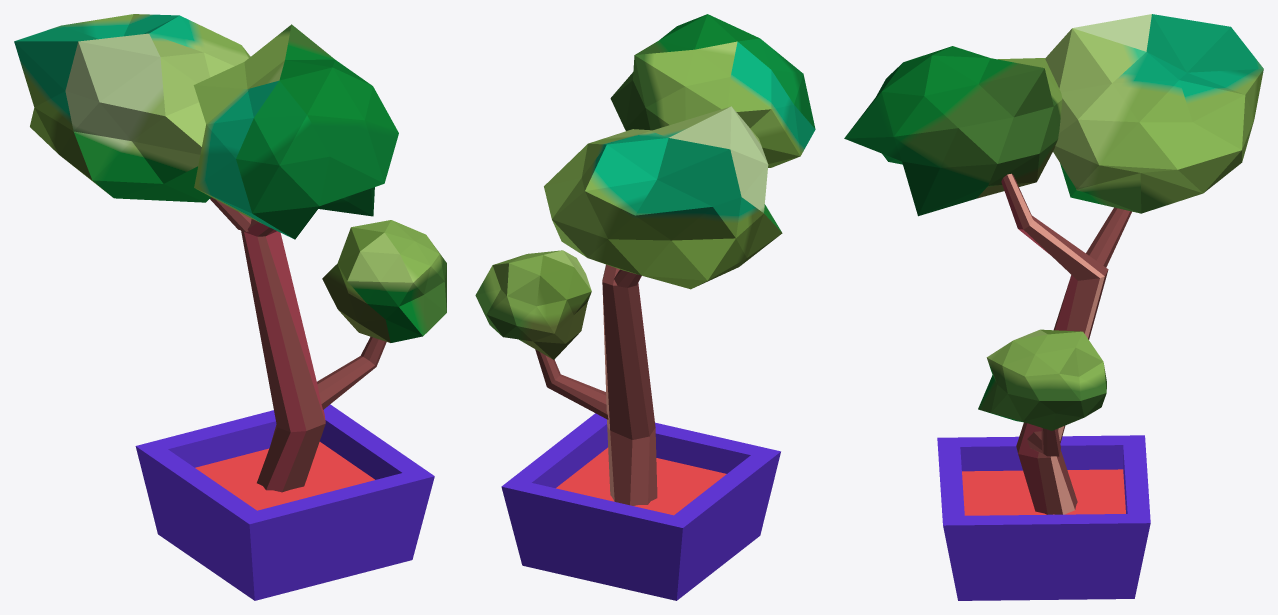
Rendered from Tree.glb.
3 views of the same model, side by side, from view 1: azimuth 30°, elevation 25°; view 2: azimuth 150°, elevation 25°; view 3: azimuth 270°, elevation 25° (orthographic). The views are drawn at different scales.
Visible parts, largest first — view 1: Tree; view 2: Tree; view 3: Tree.
Part boxes in pixels (x1=…): Tree: x1=14, y1=14, x2=446, y2=600; Tree: x1=475, y1=14, x2=815, y2=600; Tree: x1=844, y1=14, x2=1263, y2=600.
Size of what is drawn, in the model's own units: 2.25 by 3.38 by 2.56.
Materials: 1 (1 with a texture image).
